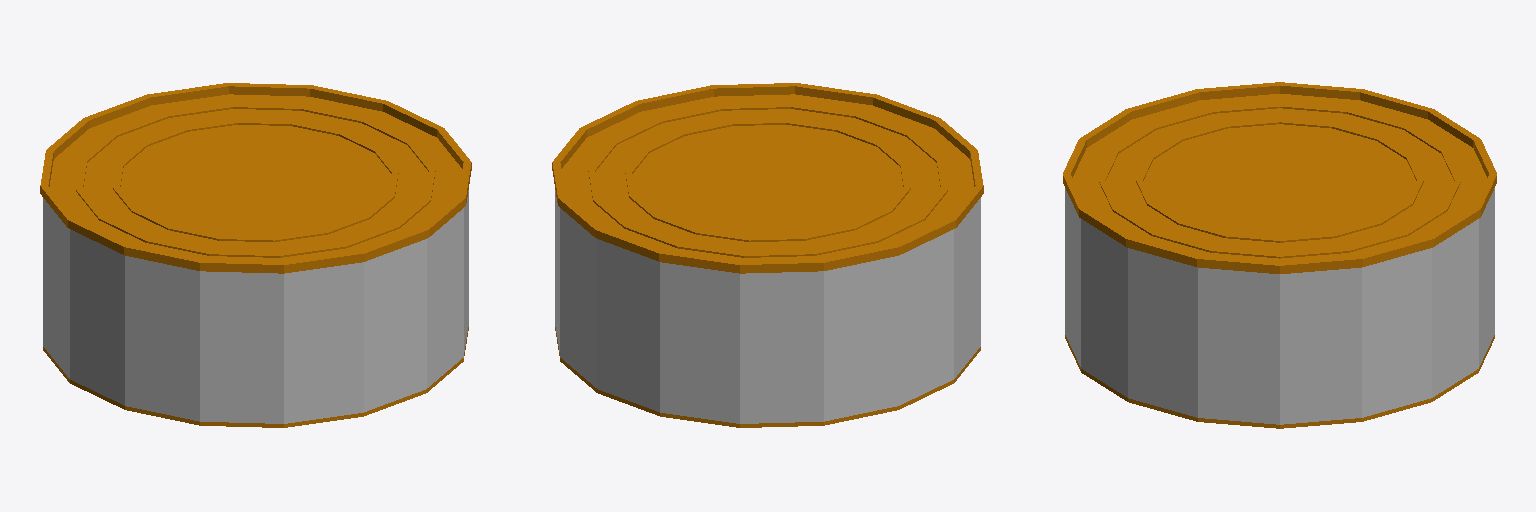
File: conserva_fish1.obj
The picture shows the model from 3 angles: view 1: azimuth 30°, elevation 25°; view 2: azimuth 150°, elevation 25°; view 3: azimuth 270°, elevation 25°; orthographic projection.
Visible parts, largest first — view 1: Cylinder; view 2: Cylinder; view 3: Cylinder.
Boxes of the visible parts, x1,y1,x2,y2 form: Cylinder: [40, 83, 471, 427]; Cylinder: [552, 83, 983, 427]; Cylinder: [1063, 82, 1496, 428].
Size of the model in its own units: 2.02 by 0.8415 by 2.02.